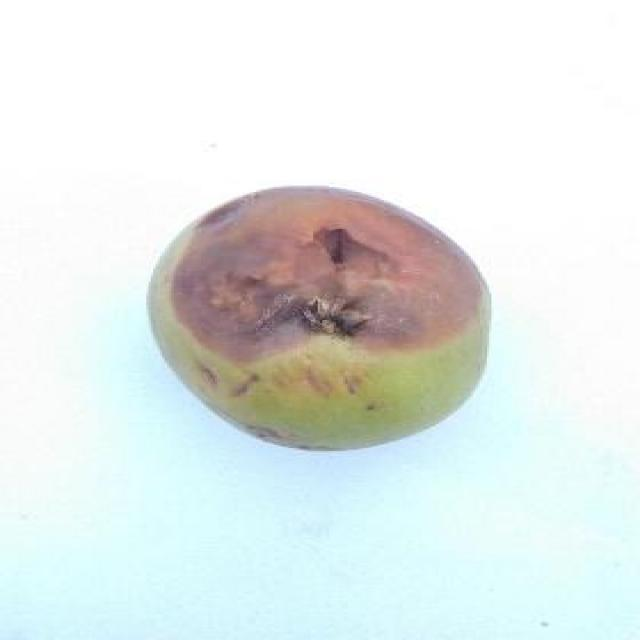Rotten: (150, 188, 500, 454)
